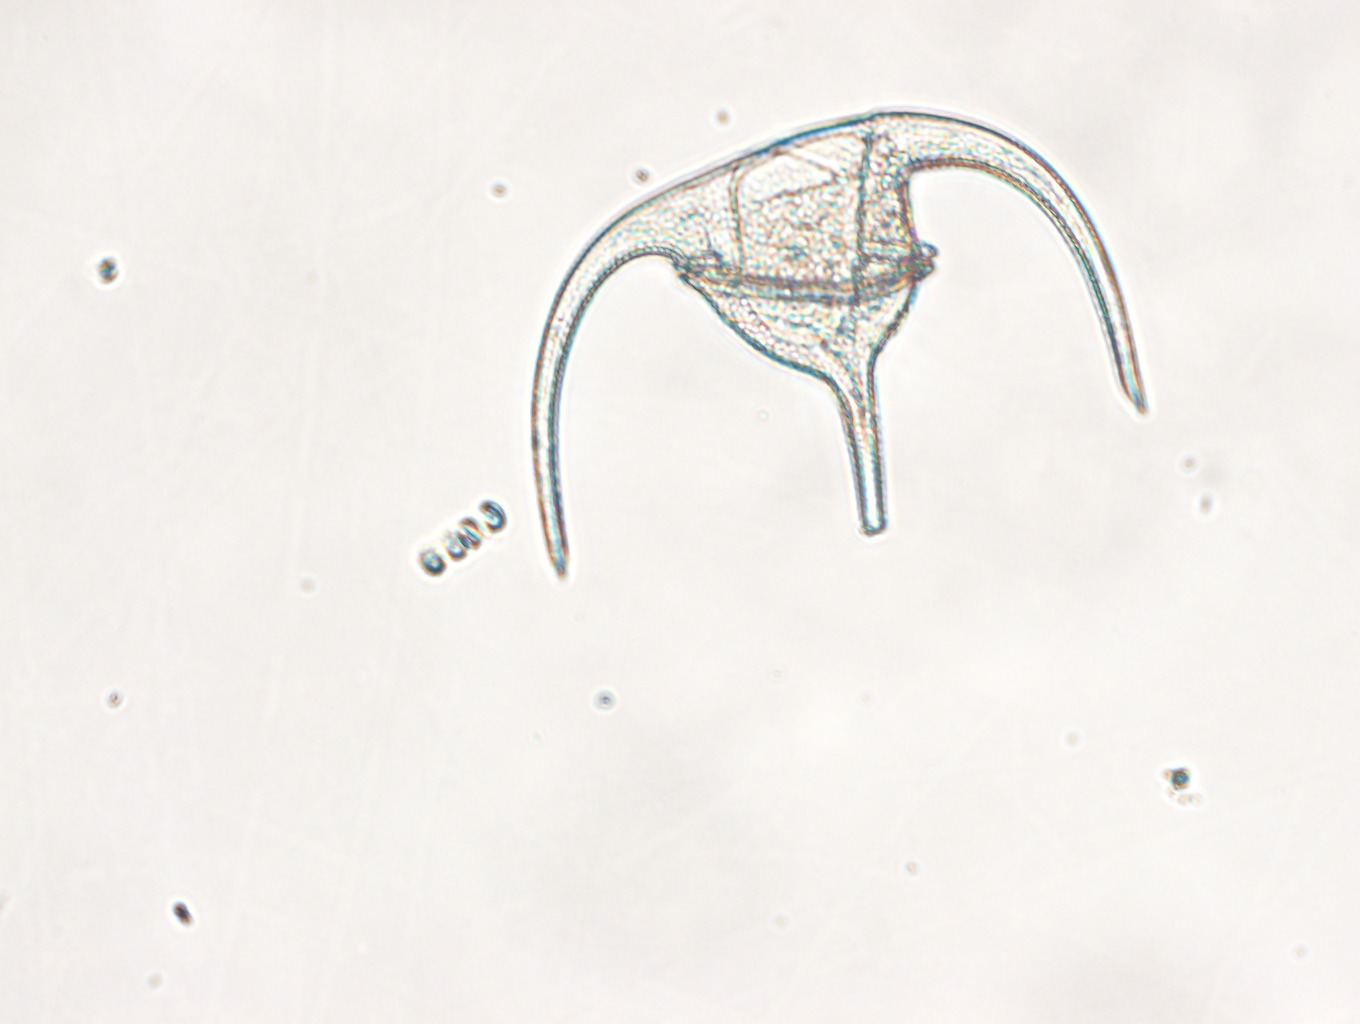ceratium tripos: (529, 110, 1146, 578)
